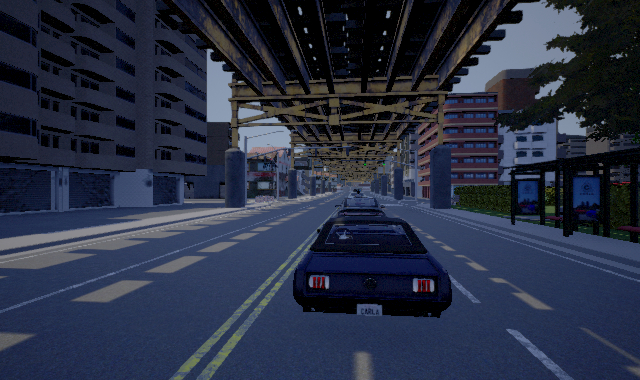traffic_light: (364, 160, 366, 166), (383, 160, 385, 165)
vehicle: (293, 217, 452, 318), (334, 196, 385, 217)
